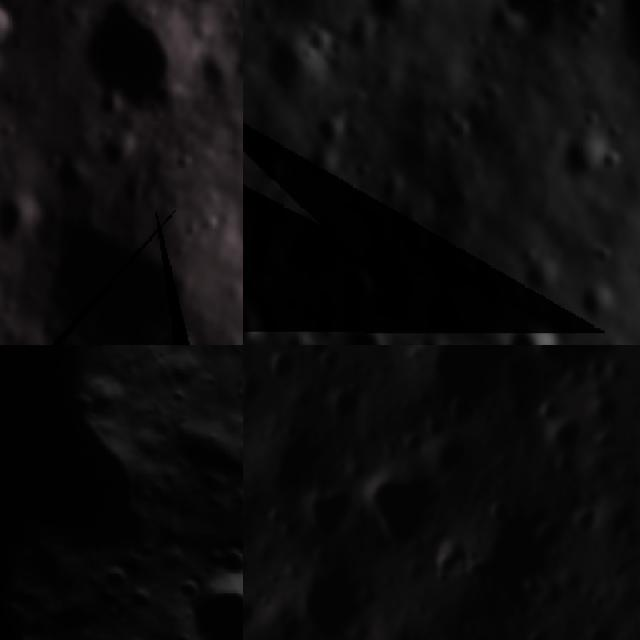crater: (25, 208, 210, 345), (70, 0, 196, 115), (460, 487, 574, 606), (357, 455, 454, 549), (394, 345, 530, 405), (167, 536, 243, 640), (288, 557, 371, 640), (249, 416, 331, 497), (299, 480, 358, 547), (554, 131, 622, 189), (489, 0, 585, 37), (259, 32, 316, 94), (525, 345, 631, 372), (574, 280, 622, 332), (543, 410, 589, 461), (431, 248, 473, 302), (332, 262, 383, 306), (431, 430, 475, 481), (359, 0, 416, 39), (329, 317, 400, 345), (243, 287, 275, 345), (429, 536, 474, 577), (310, 103, 350, 149), (498, 314, 557, 345), (329, 382, 371, 423), (93, 556, 134, 597), (434, 104, 476, 144), (0, 190, 28, 247), (446, 388, 488, 426), (566, 497, 608, 534), (398, 225, 438, 262), (120, 582, 158, 620), (264, 347, 302, 384), (0, 0, 22, 54), (255, 162, 291, 192), (151, 328, 207, 345), (243, 595, 263, 637), (519, 619, 558, 640), (243, 233, 261, 272), (168, 383, 194, 409), (351, 156, 374, 182), (101, 345, 164, 353), (233, 353, 243, 402), (342, 176, 360, 198)
